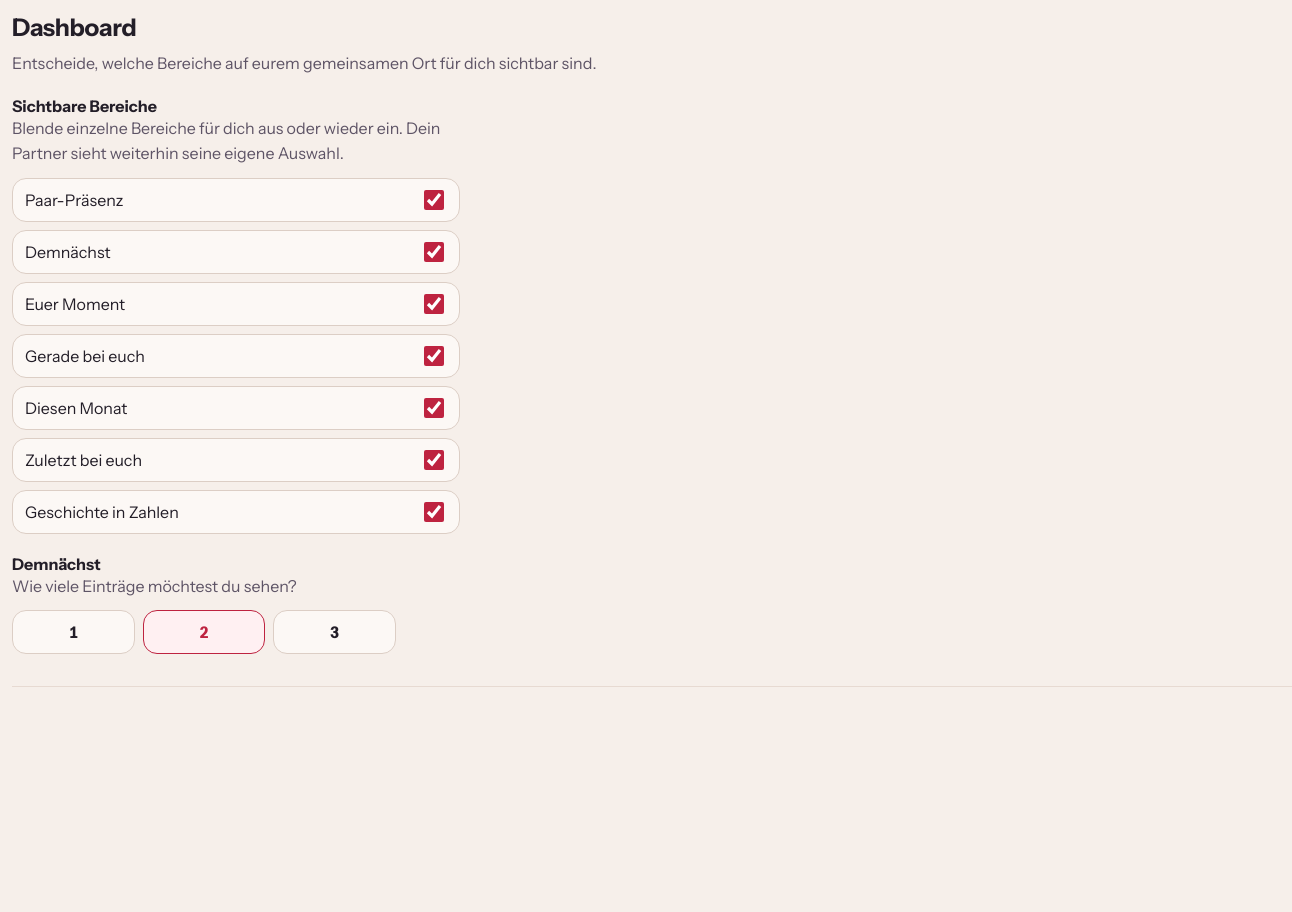
Scenario: DashboardSettingsPanel › persists immediately and updates the Account+Space query cache
The width and height of the screenshot is (1292, 912).
Click the radio button labelled "3".
click(335, 632)  # box [273,610,396,654]
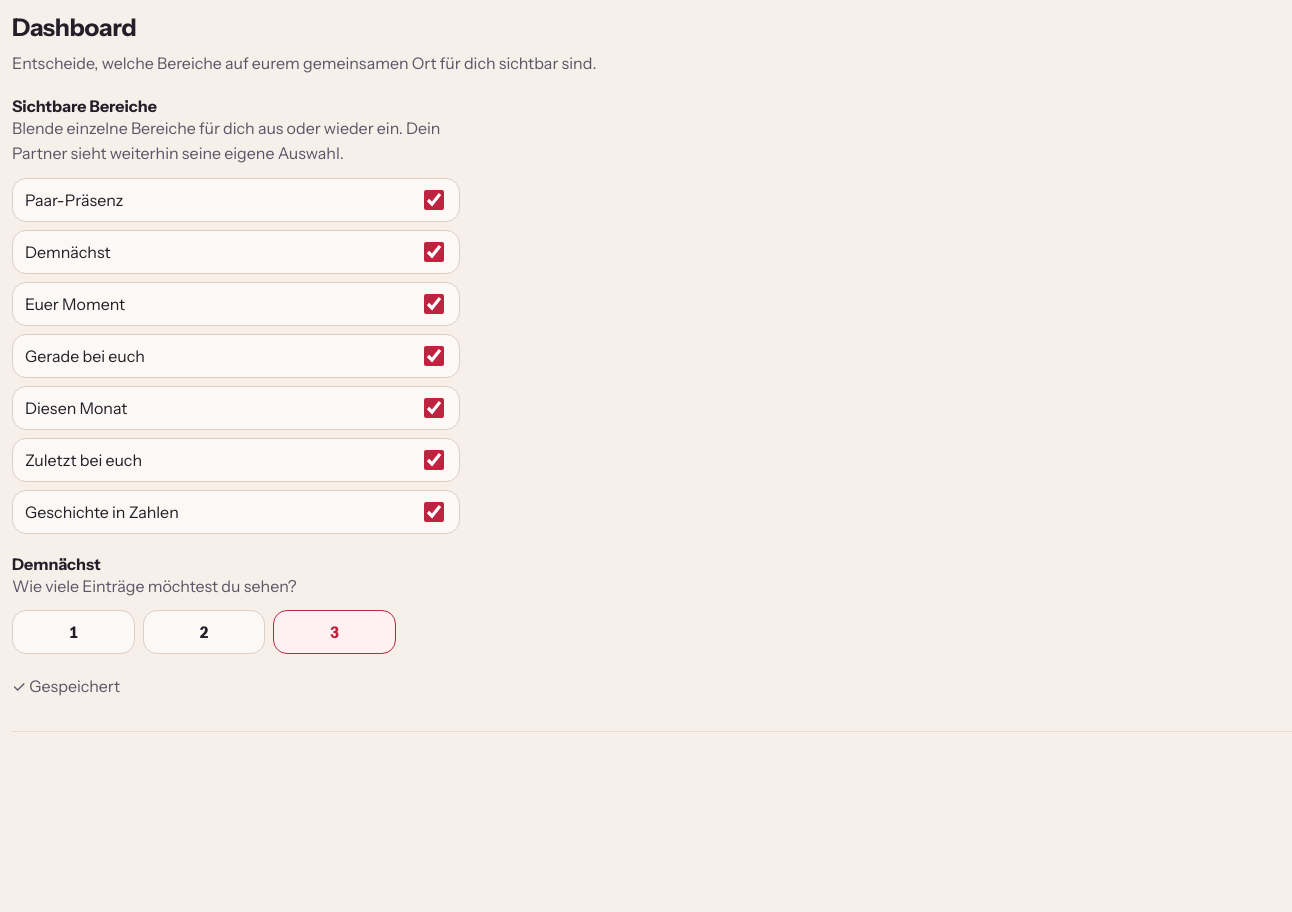
Result: the radio button labelled "3" is checked at [273,610,396,654]
Result: the text "✓ Gespeichert" is shown at [12,676,120,696]
